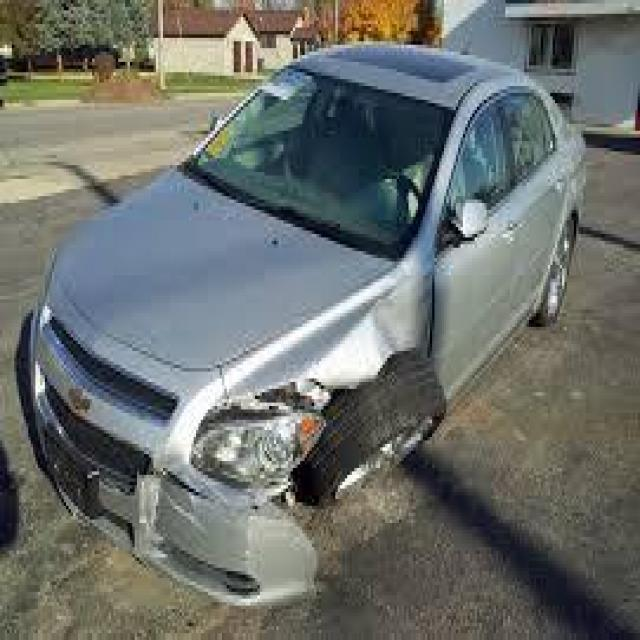damaged: (139, 378, 359, 606)
